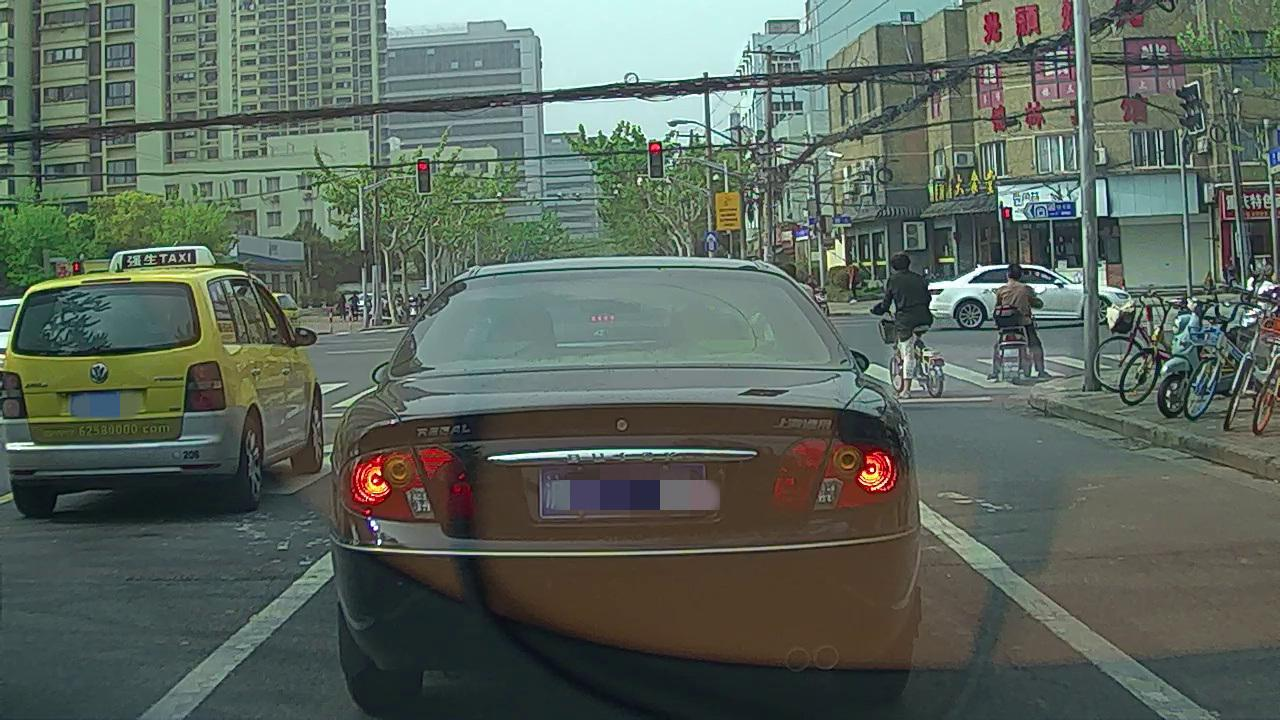traffic_light: (649, 141, 664, 178), (416, 157, 431, 193)
